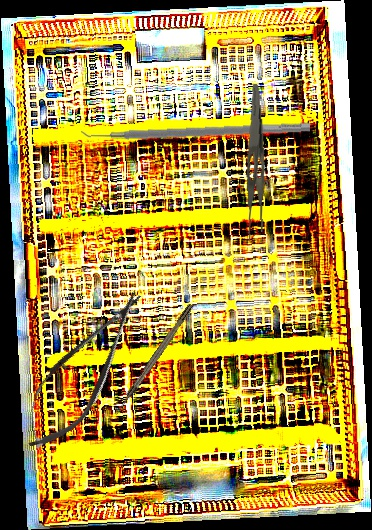Dressing Forceps: (235, 83, 271, 242)
Hook Surgical: (112, 303, 195, 417)
Micro Scissor: (7, 276, 161, 463)
Spatula Surgical: (80, 112, 311, 144)
